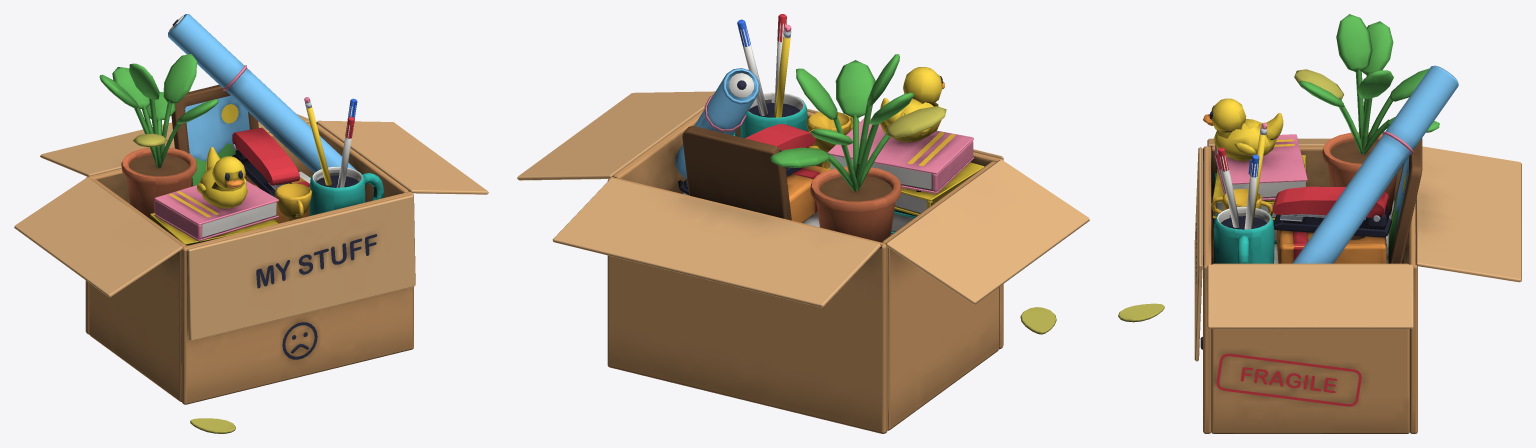
The model's file is cardboard_box.glb.
3 renders of one model, left to right at view 1: azimuth 30°, elevation 25°; view 2: azimuth 150°, elevation 25°; view 3: azimuth 270°, elevation 25°, orthographic. The views are drawn at different scales.
Parts seen in each view (by area): view 1: cardboard_box; view 2: cardboard_box; view 3: cardboard_box.
Part boxes in pixels (<box>): cardboard_box: <box>14,14,488,433</box>; cardboard_box: <box>517,14,1089,433</box>; cardboard_box: <box>1118,14,1521,433</box>.
Size of the model in its own units: 0.66 by 0.4777 by 0.5633.
18 materials, 18 textured.
